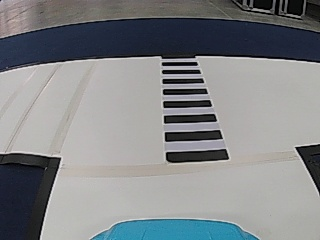CrossWalk: (157, 55, 235, 168)
